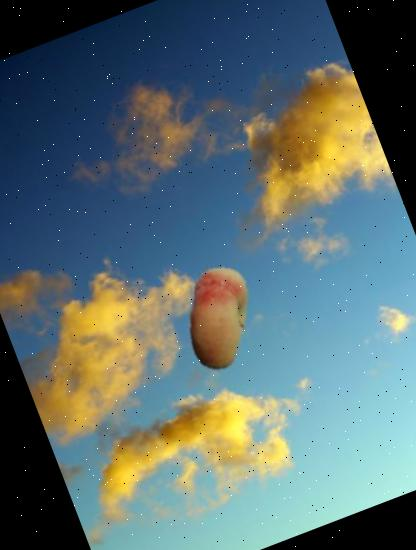Peach: (150, 250, 286, 386)
